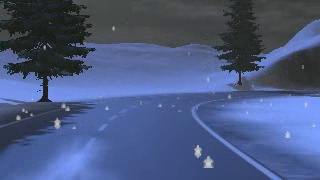Lane: (0, 90, 303, 179)
